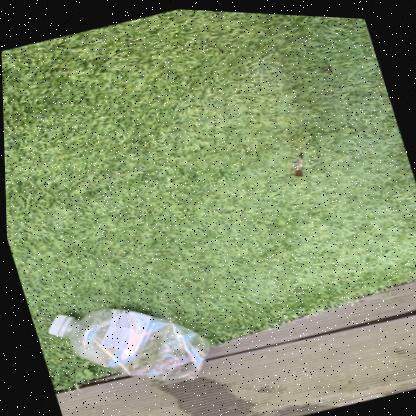Plastic: (46, 308, 207, 380)
